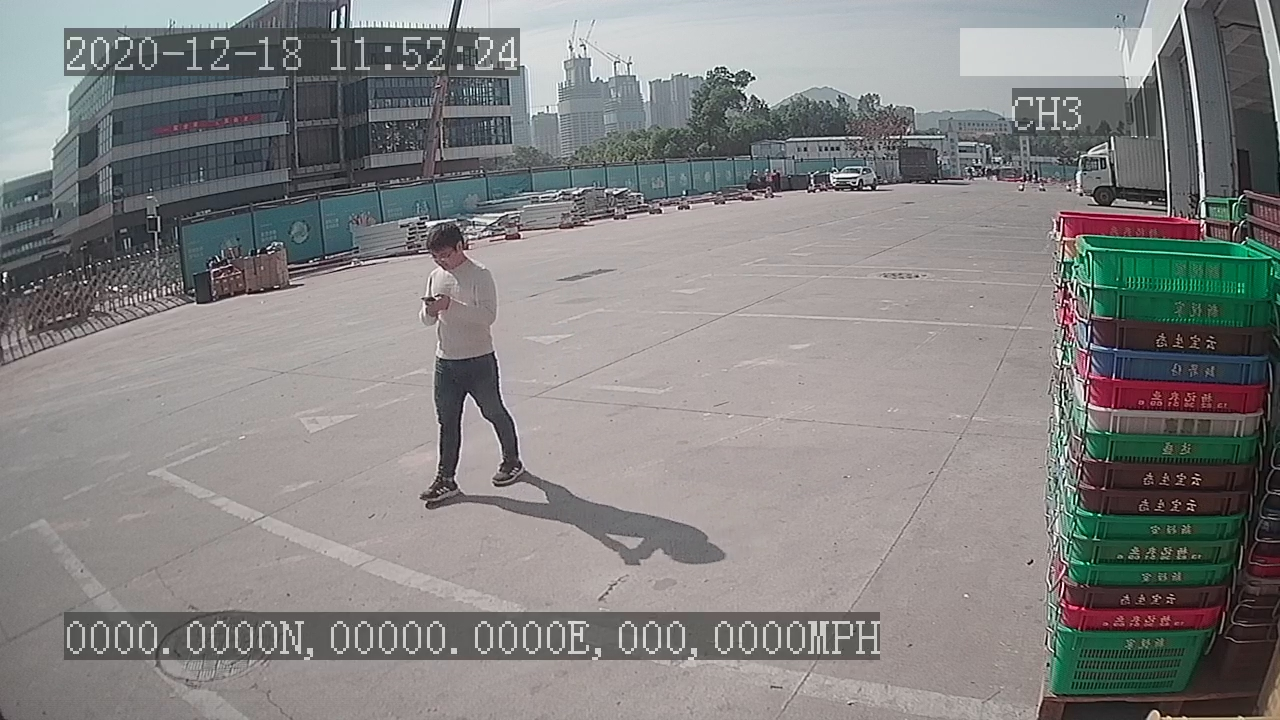person: (413, 219, 527, 506)
